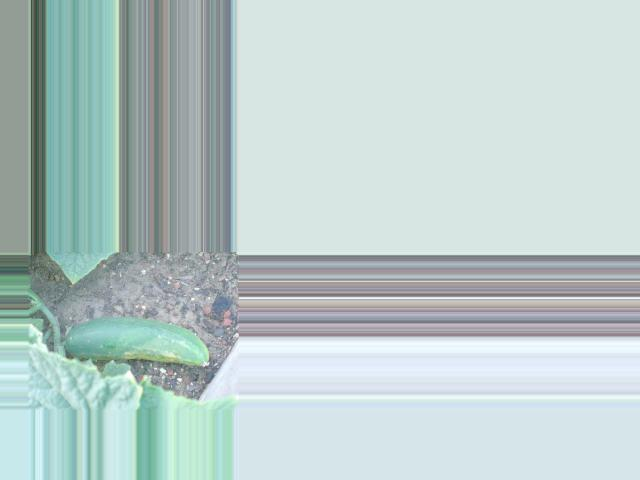cucumber: (66, 317, 209, 367)
